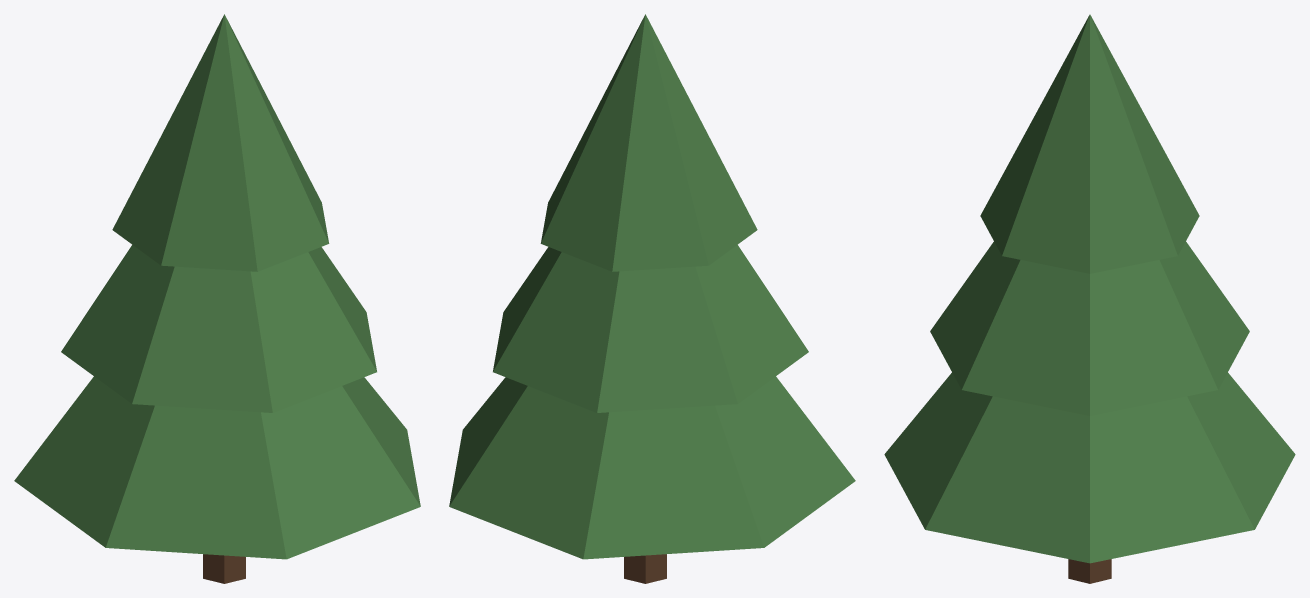
Rendered from Agac_cam_1_Hafif.fbx.
3 renders of one model, left to right at view 1: azimuth 30°, elevation 25°; view 2: azimuth 150°, elevation 25°; view 3: azimuth 270°, elevation 25°, orthographic.
Parts seen in each view (by area): view 1: Agac_cam_1_Hafif; view 2: Agac_cam_1_Hafif; view 3: Agac_cam_1_Hafif.
Boxes of the visible parts, box(x1,y1,x2,y2) form: Agac_cam_1_Hafif: box(14, 14, 420, 583); Agac_cam_1_Hafif: box(449, 14, 855, 583); Agac_cam_1_Hafif: box(884, 14, 1295, 583).
Bounding box in the file's own units: 2.57 × 3.95 × 2.63.
